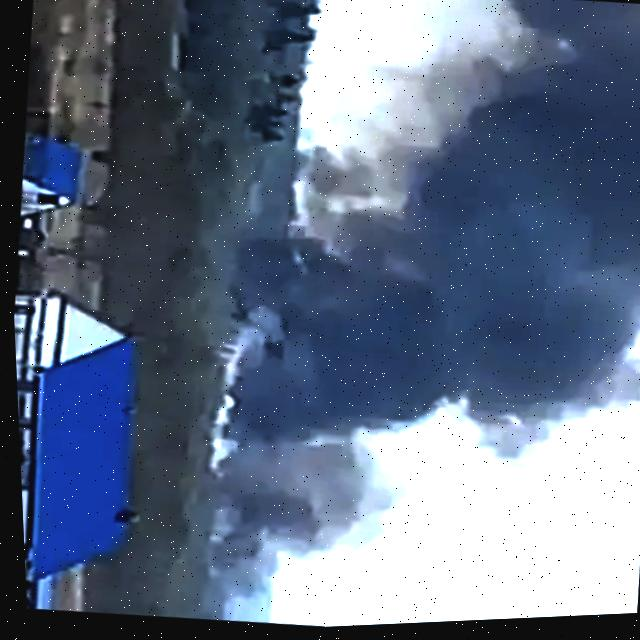Smoke: (184, 0, 640, 634)
